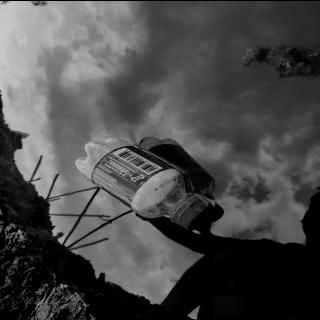bottle: (72, 134, 216, 232)
